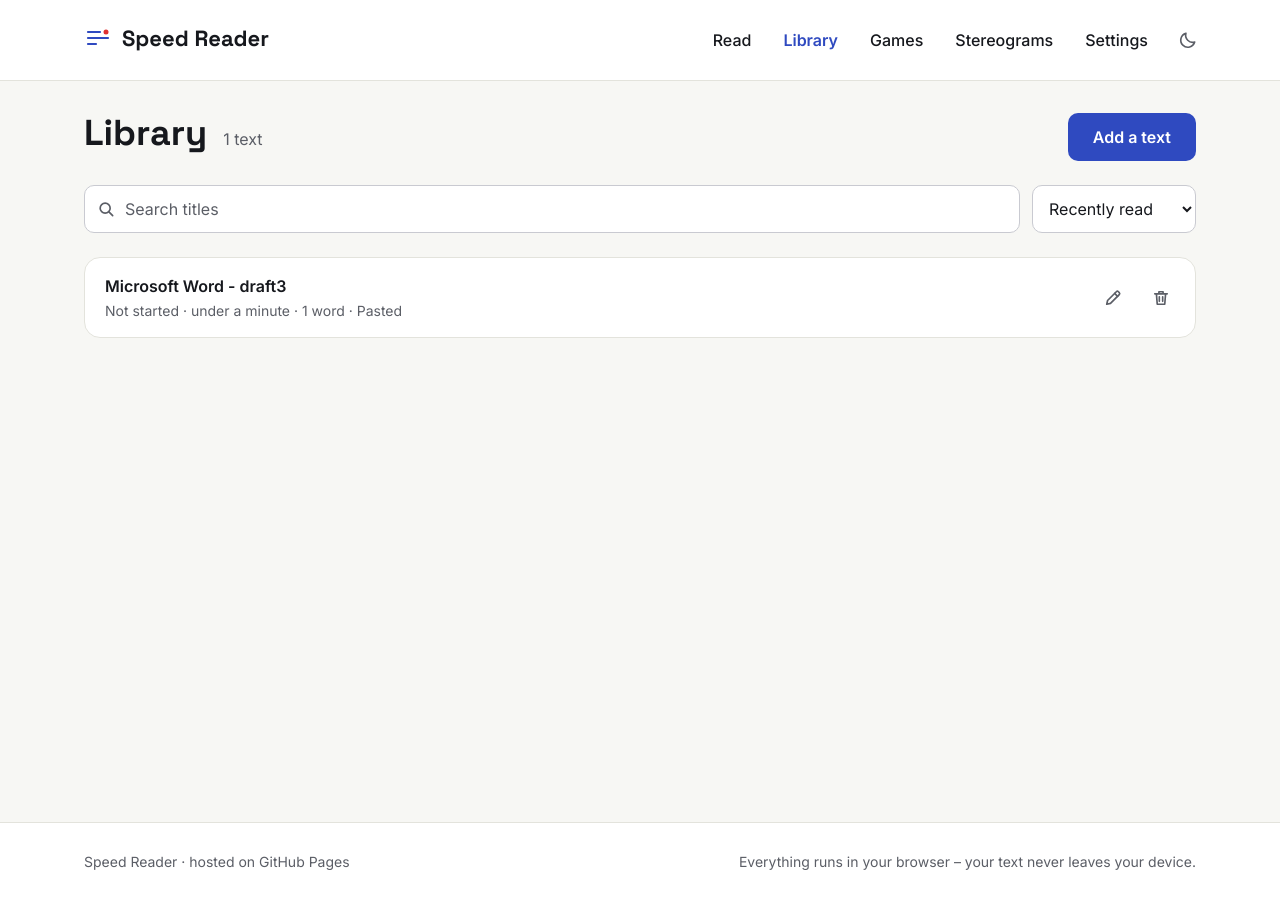
Scenario: library › renames a text
Click the button named "Rename" at (1113, 298), box [1091,276,1135,320]
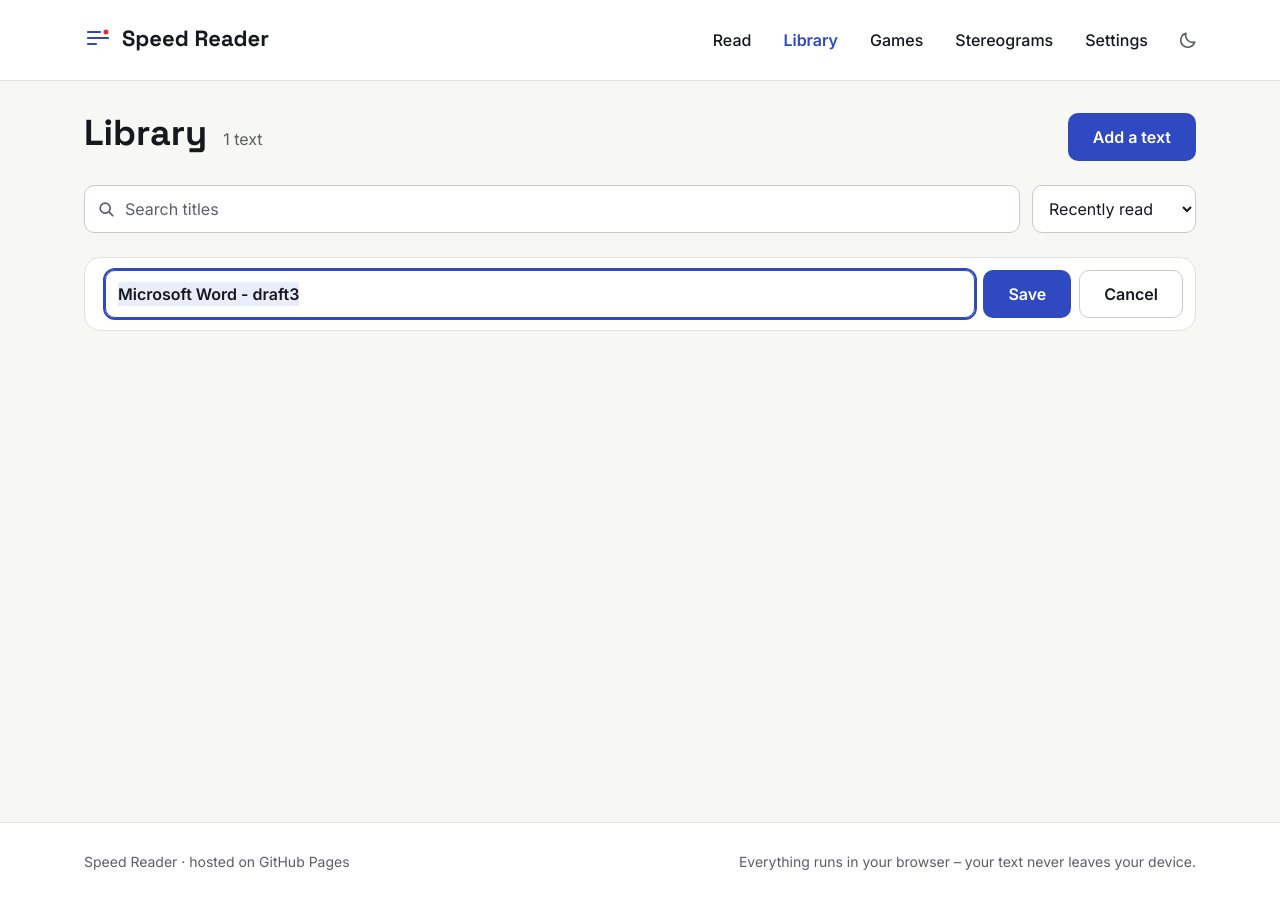
Replace the text in the field named "Title" with "The Real Title" at (540, 294), box [105,270,975,318]
Then press Enter
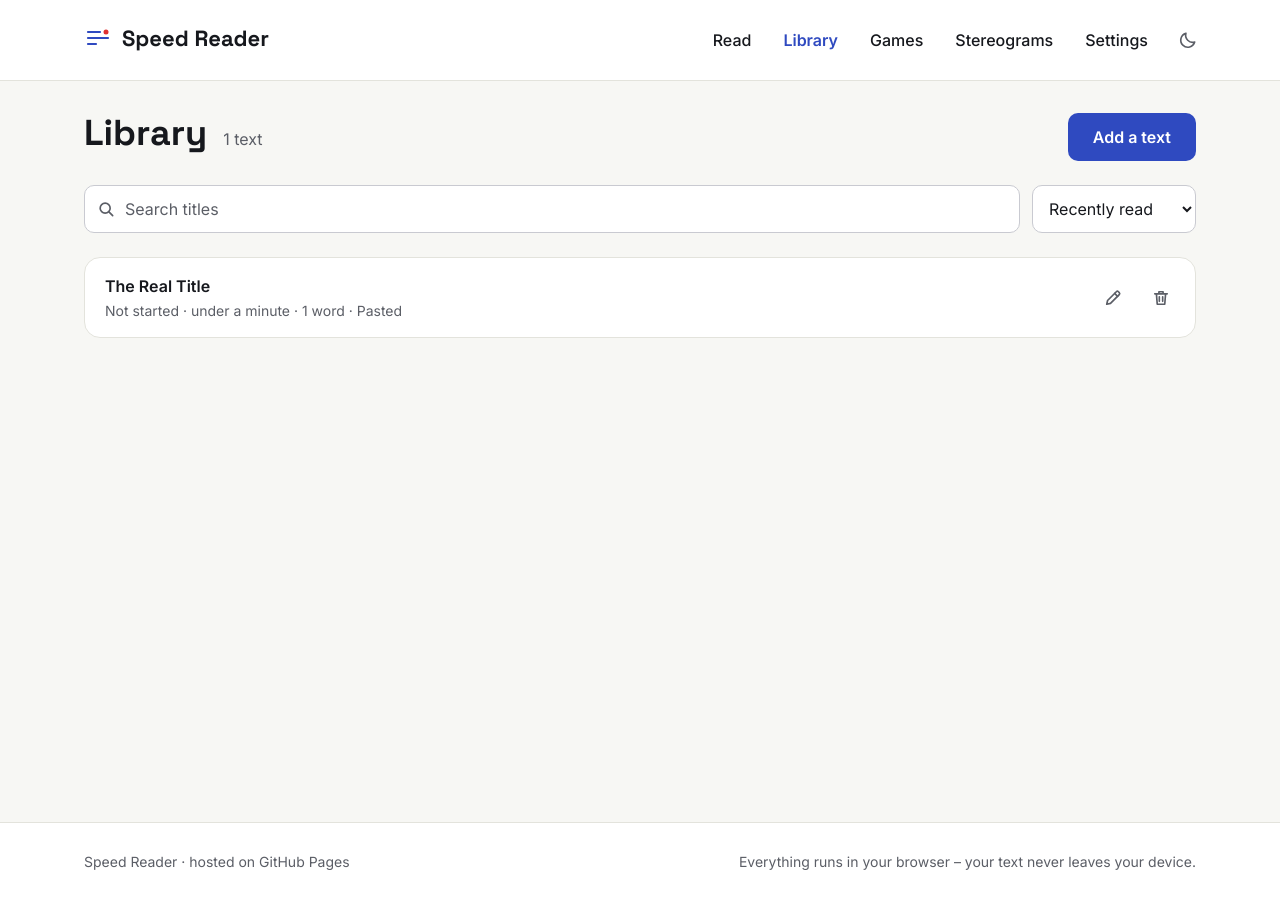
Result: the link "The Real Title" is shown at [105,276,402,319]
Result: the text "The Real Title" is shown at [105,276,210,296]
